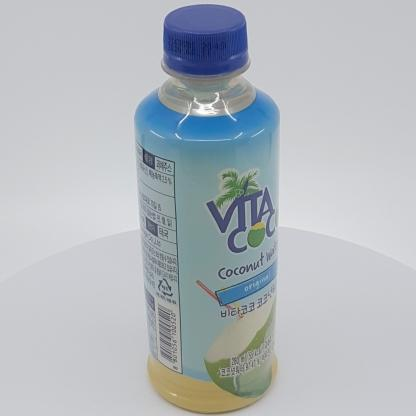----------280ml: (133, 3, 280, 414)
